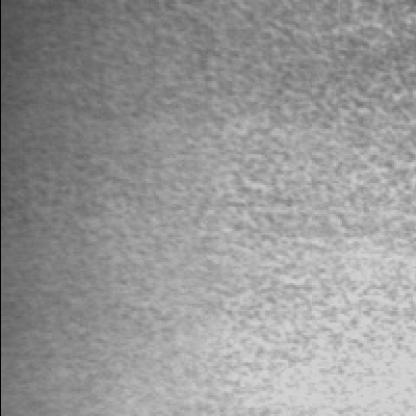pitted_surface: (204, 4, 416, 416)
